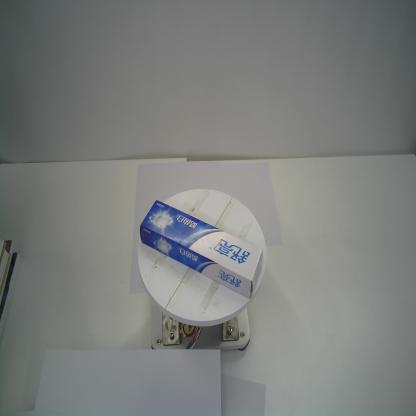Personal Hygiene: (139, 199, 263, 298)
